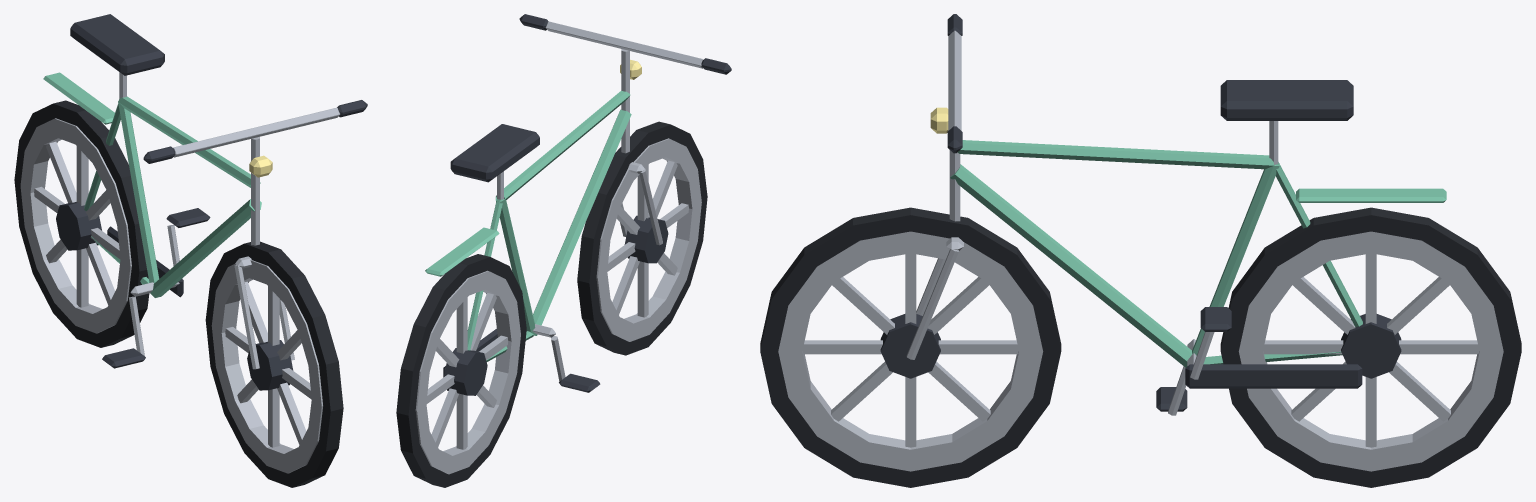
The model's file is bicycle.glb.
The picture shows the model from 3 angles, left to right: view 1: azimuth 30°, elevation 25°; view 2: azimuth 150°, elevation 25°; view 3: azimuth 270°, elevation 25°; orthographic projection. The views are drawn at different scales.
Parts seen in each view (by area): view 1: Bicycle; view 2: Bicycle; view 3: Bicycle.
Boxes of the visible parts, x1=… form: Bicycle: x1=14, y1=14, x2=367, y2=487; Bicycle: x1=396, y1=14, x2=731, y2=487; Bicycle: x1=760, y1=14, x2=1521, y2=487.
Bounding box in the file's own units: 0.7 × 1.01 × 1.72.
1 material, 1 textured.
